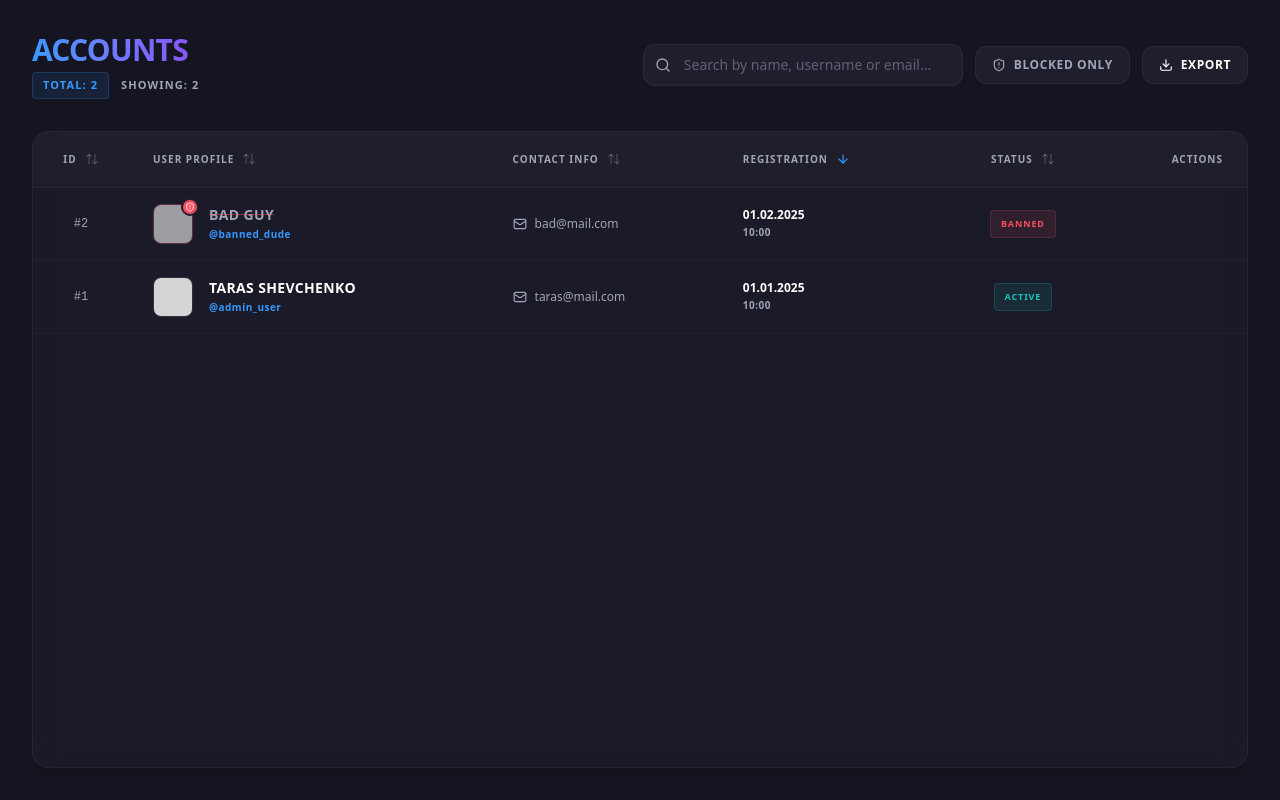
Users Component › filters blocked users only when toggle is clicked
The width and height of the screenshot is (1280, 800).
Expected: the heading "Bad Guy" is shown, [209, 205, 274, 224]
Click the button "Blocked Only" at (1052, 65), box [975, 46, 1130, 84]
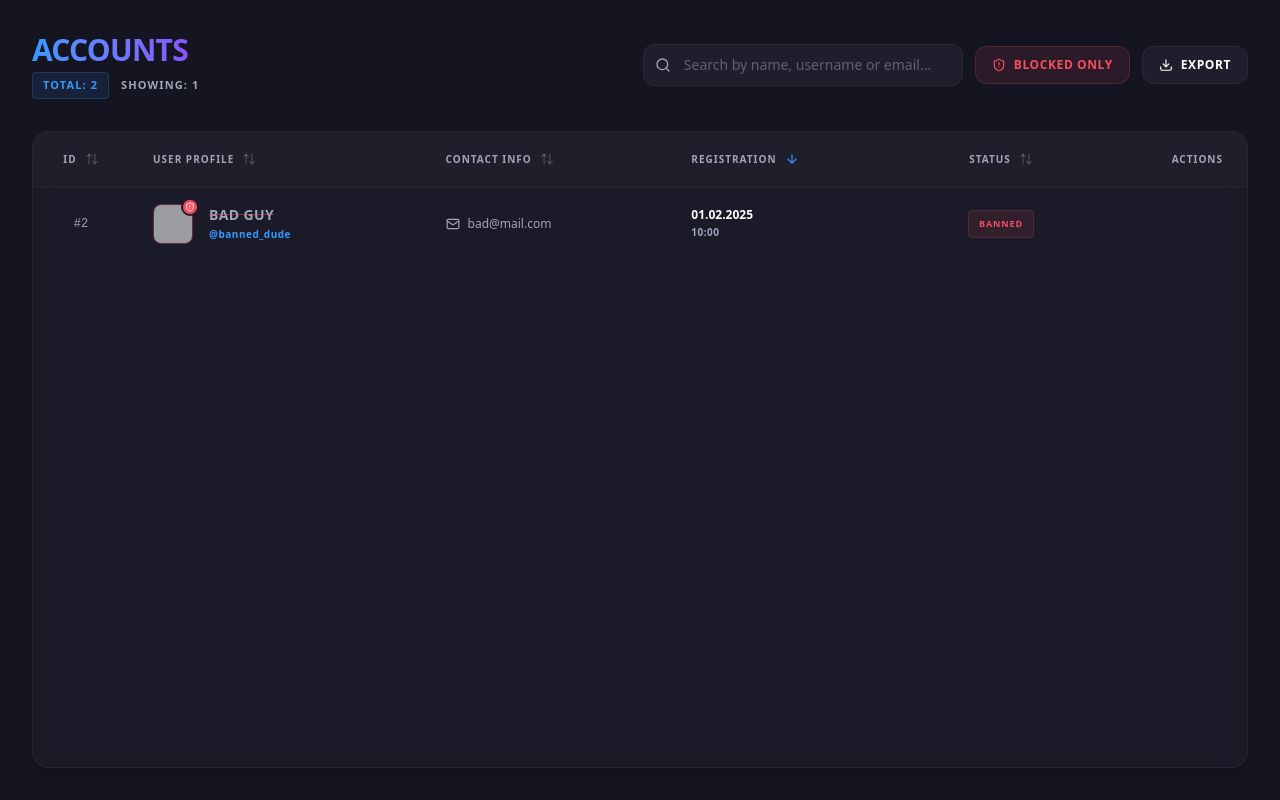
Expected: the heading "Bad Guy" is shown, [209, 205, 274, 224]
Result: the heading "Taras Shevchenko" is gone
